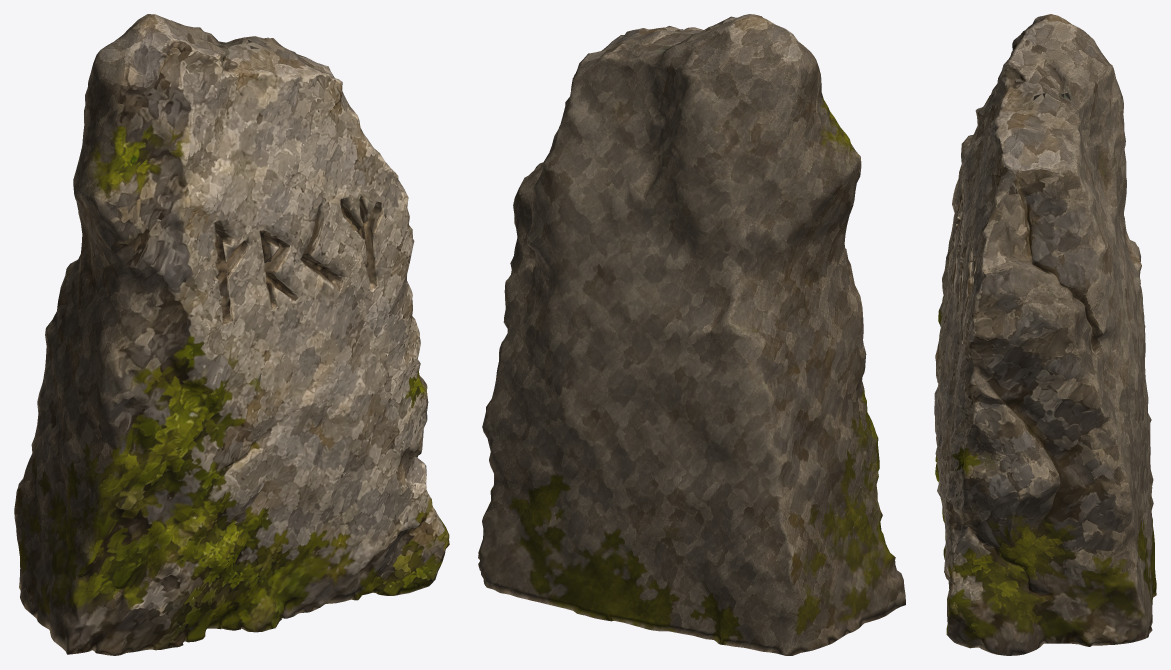
The model's file is StoneTorvald.fbx.
3 views of the same model, side by side, from view 1: azimuth 30°, elevation 25°; view 2: azimuth 150°, elevation 25°; view 3: azimuth 270°, elevation 25° (orthographic). The views are drawn at different scales.
Parts seen in each view (by area): view 1: Mesh_0; view 2: Mesh_0; view 3: Mesh_0.
Boxes of the visible parts, box(x1,y1,x2,y2) form: Mesh_0: box(14, 14, 449, 655); Mesh_0: box(478, 14, 905, 655); Mesh_0: box(934, 14, 1156, 655).
Size of the model in its own units: 63.57 by 95.12 by 36.33.
Materials: 1 (1 with a texture image).
